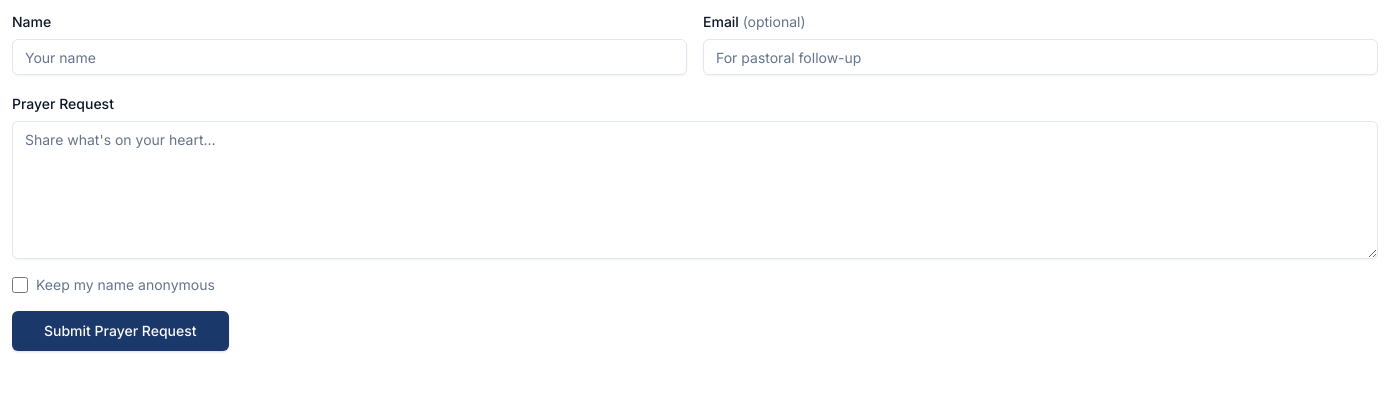
PrayerRequestForm › error clearing on change › clears the name error when the user types into the name field
The width and height of the screenshot is (1390, 413).
Click the button "Submit Prayer Request": point(120, 331) top-left (12, 311), bottom-right (228, 351)
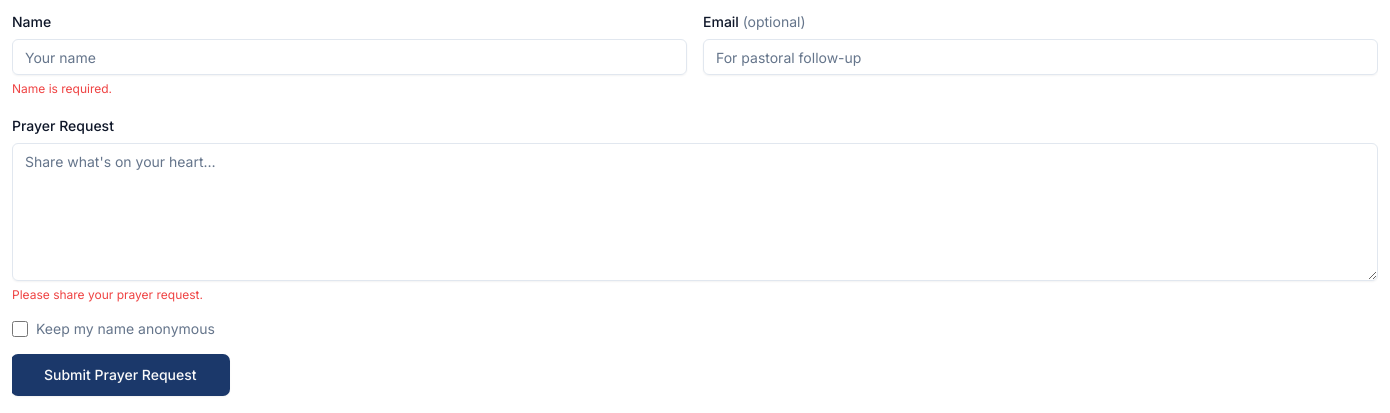
Now the text "Name is required." is shown, box top-left (12, 81), bottom-right (112, 96)
In the field labelled "Name": point(350, 57) top-left (12, 39), bottom-right (687, 75), type "J"
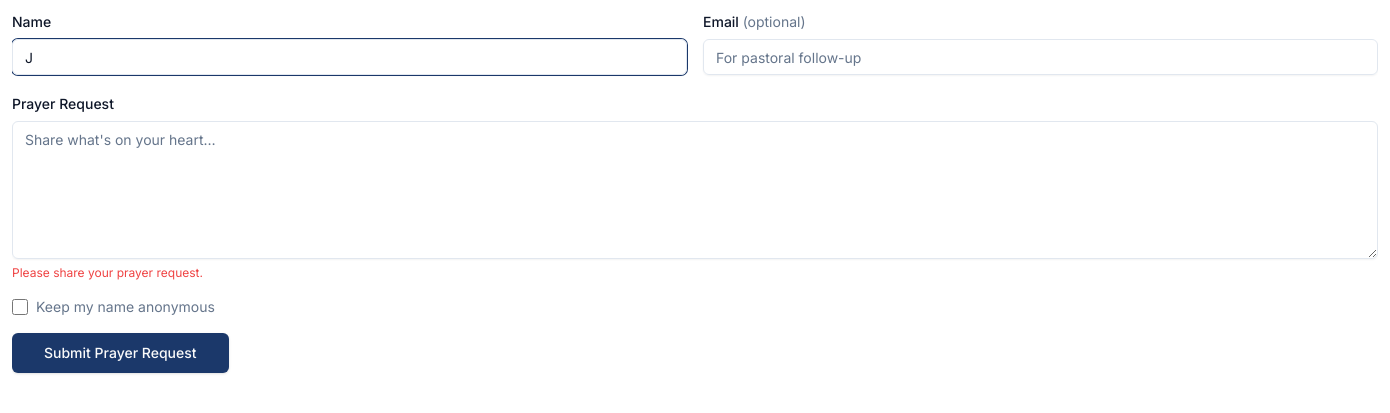
Now the text "Name is required." is gone
